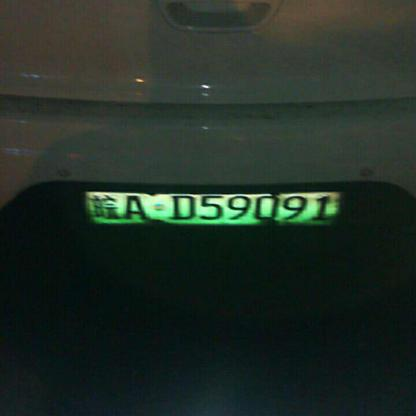lp: (86, 191, 342, 223)
